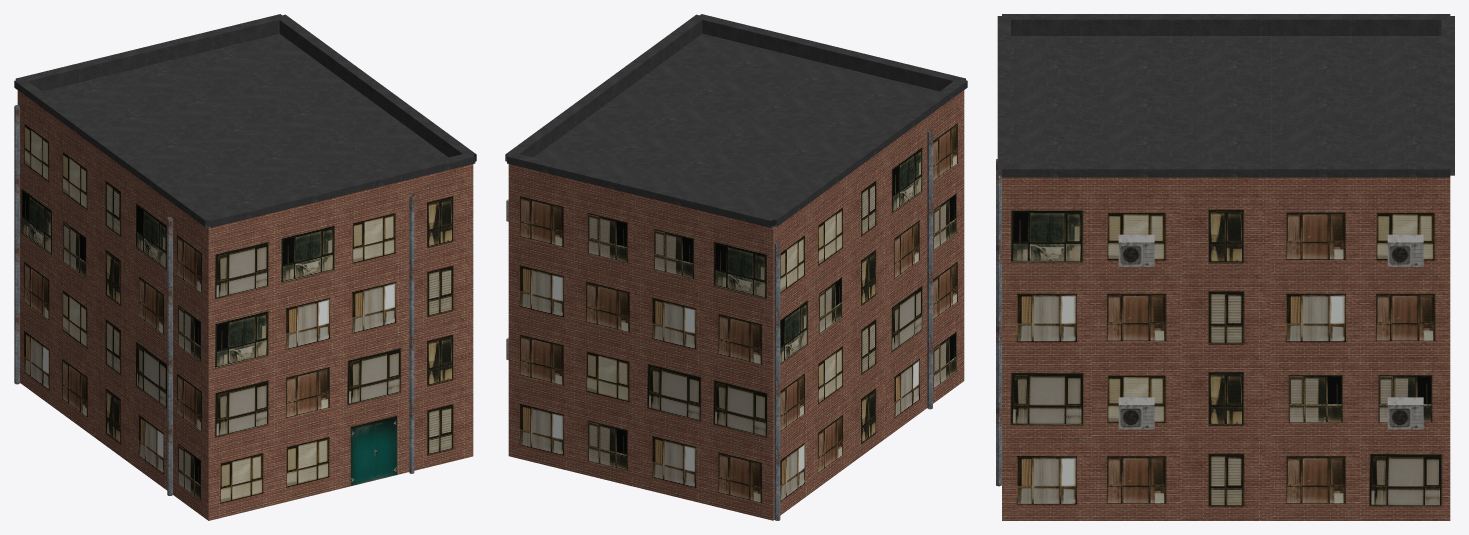
File: Alex_RedBrickWalkup_Model.fbx
3 renders of one model, left to right at view 1: azimuth 30°, elevation 25°; view 2: azimuth 150°, elevation 25°; view 3: azimuth 270°, elevation 25°, orthographic. The views are drawn at different scales.
Parts seen in each view (by area): view 1: Alex_RedBrickWalkup_Part00; view 2: Alex_RedBrickWalkup_Part00; view 3: Alex_RedBrickWalkup_Part00.
Boxes of the visible parts, left/top/right/bottom form: Alex_RedBrickWalkup_Part00: left=14, top=14, right=476, bottom=520; Alex_RedBrickWalkup_Part00: left=505, top=14, right=967, bottom=520; Alex_RedBrickWalkup_Part00: left=996, top=14, right=1454, bottom=520.
Size of the model in its own units: 11.97 by 12.18 by 14.33.
